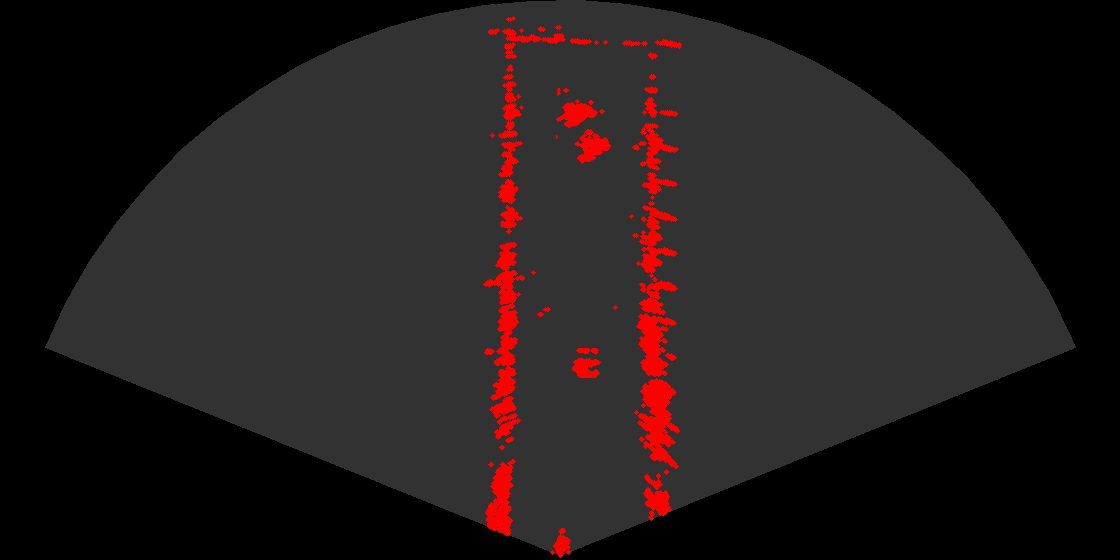ball: (552, 340, 612, 381)
cage: (556, 88, 619, 172)
